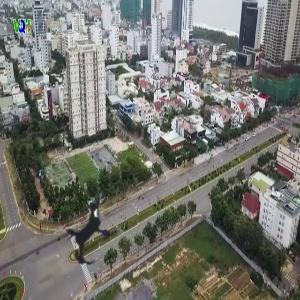drone: (39, 179, 150, 290)
